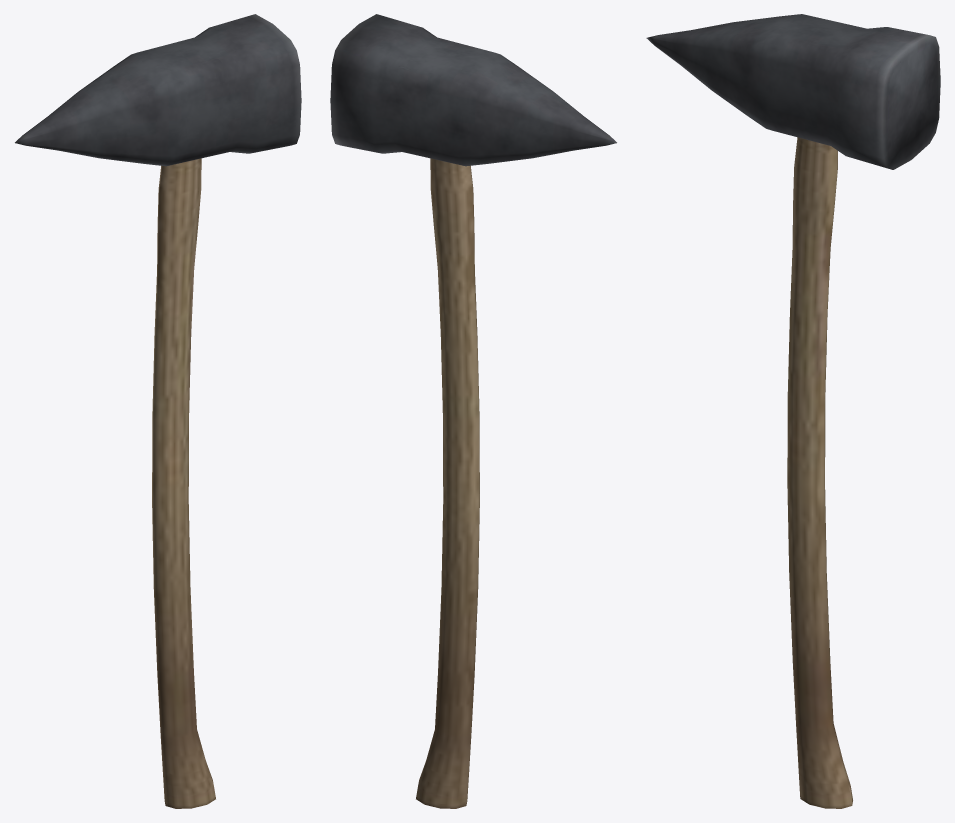
3 views of the same model, side by side, from view 1: azimuth 30°, elevation 25°; view 2: azimuth 150°, elevation 25°; view 3: azimuth 330°, elevation 25° (orthographic). The views are drawn at different scales.
Parts seen in each view (by area): view 1: variant_0; view 2: variant_0; view 3: variant_0.
Boxes of the visible parts, x1=… form: variant_0: x1=15, y1=14, x2=301, y2=808; variant_0: x1=330, y1=14, x2=616, y2=808; variant_0: x1=646, y1=14, x2=940, y2=808.
Size of the model in its own units: 0.2477 by 0.6885 by 0.0931.
2 materials, 2 textured.
